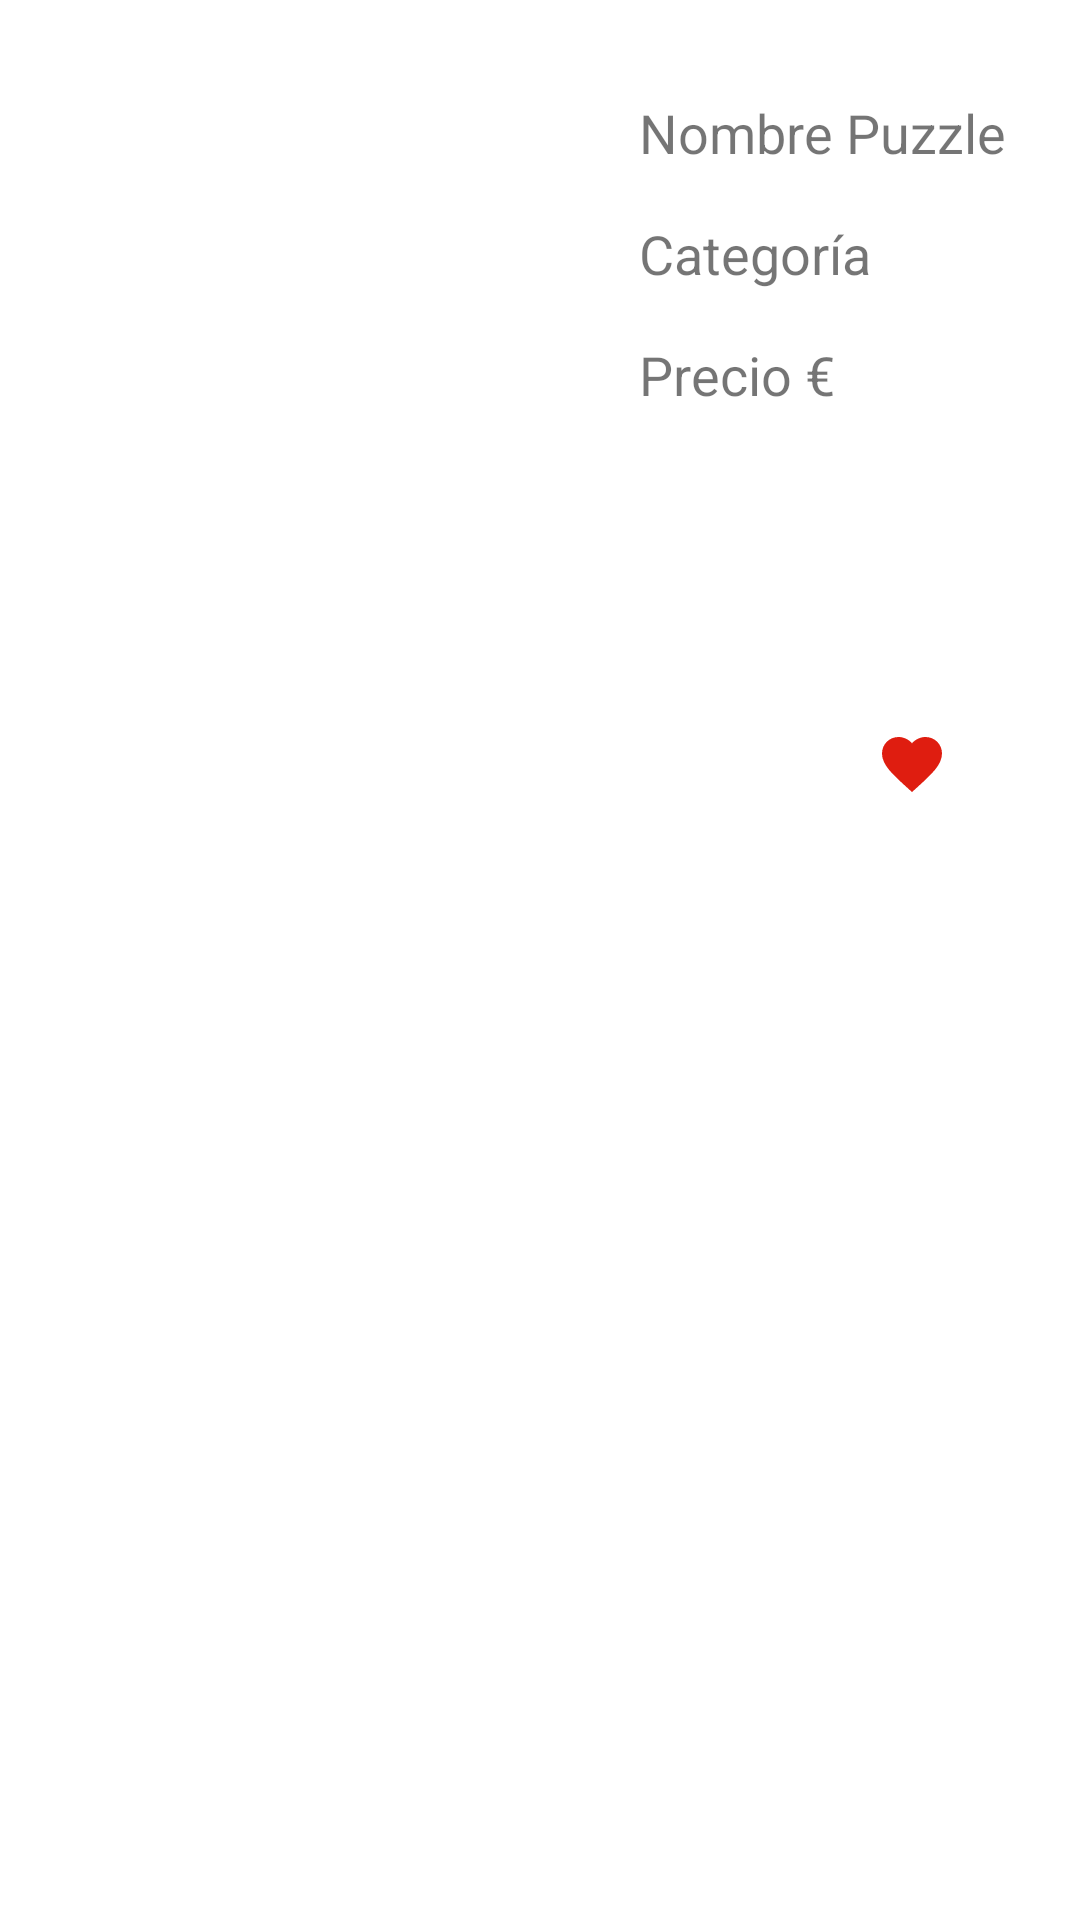

Where to tap for icons on this 1080×1920 app screen, as point (x, y):
favorite rojo: point (912, 764)
